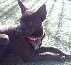dog: (0, 0, 69, 65)
